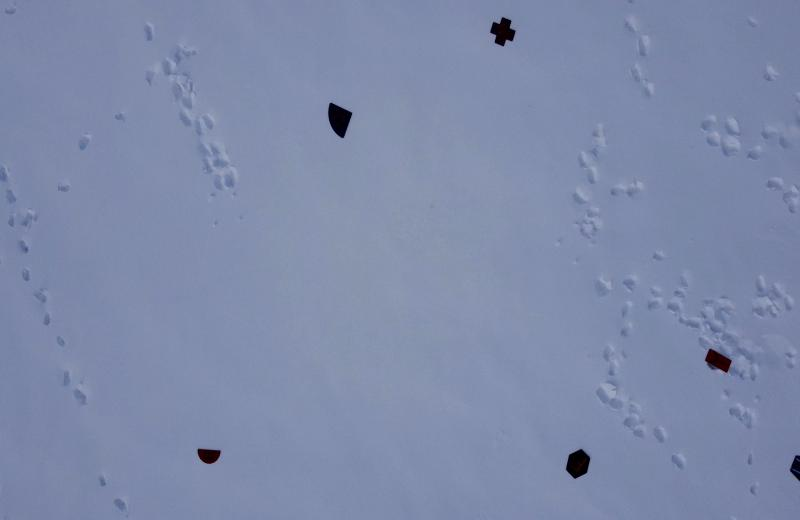Cross: (488, 15, 518, 53)
Hexagon: (563, 446, 594, 482)
Quarter Circle: (322, 94, 354, 142)
Rectangle: (1, 0, 800, 520), (704, 343, 733, 383)
Semi Circle: (194, 440, 222, 470)
